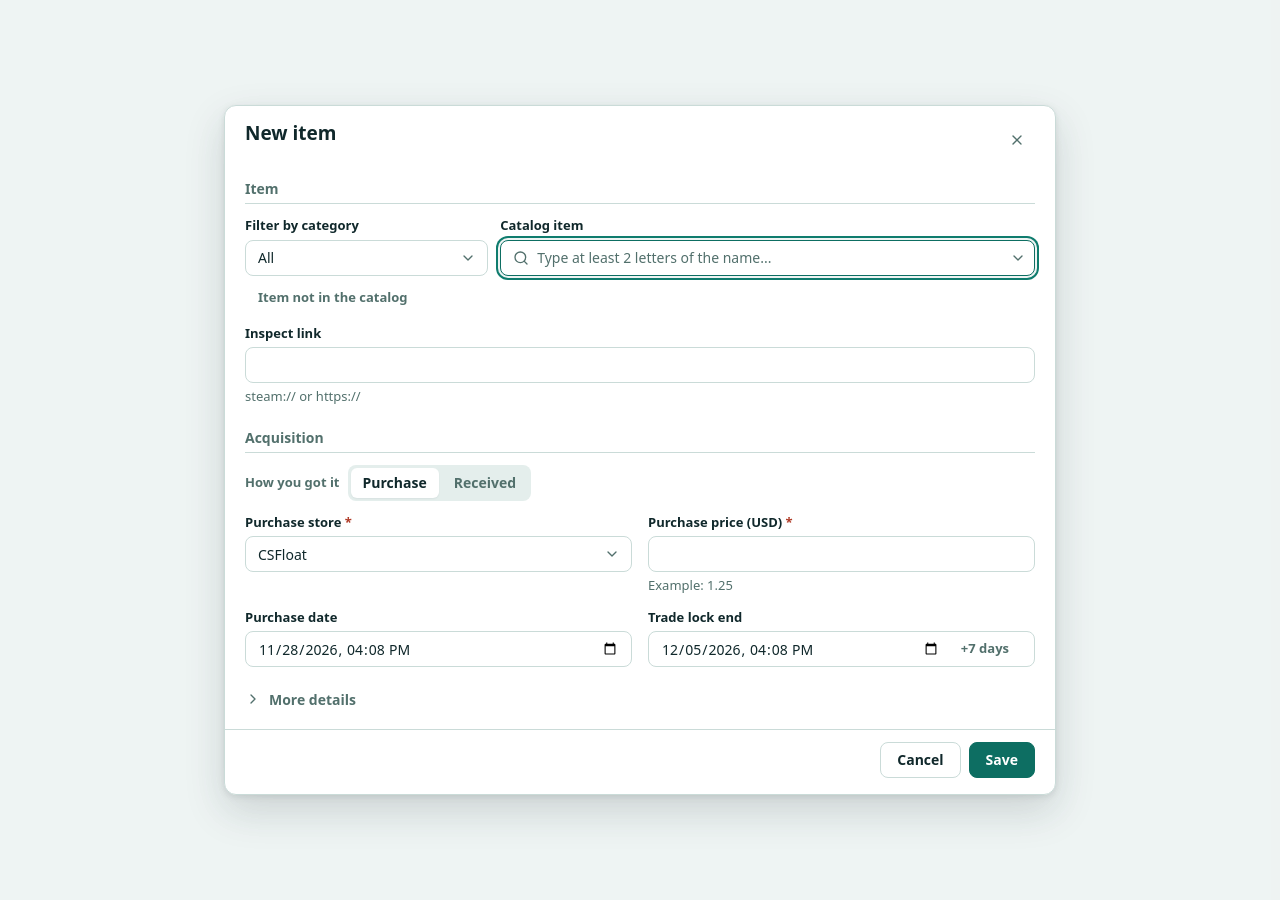
Compra e Ganhei › Compra mostra preço e datas de compra; Ganhei esconde preço e cotação e troca o rótulo da data
Select "Steam" in the dropdown labelled "Purchase store *" at {"x": 438, "y": 554}, box [245,536,632,572]
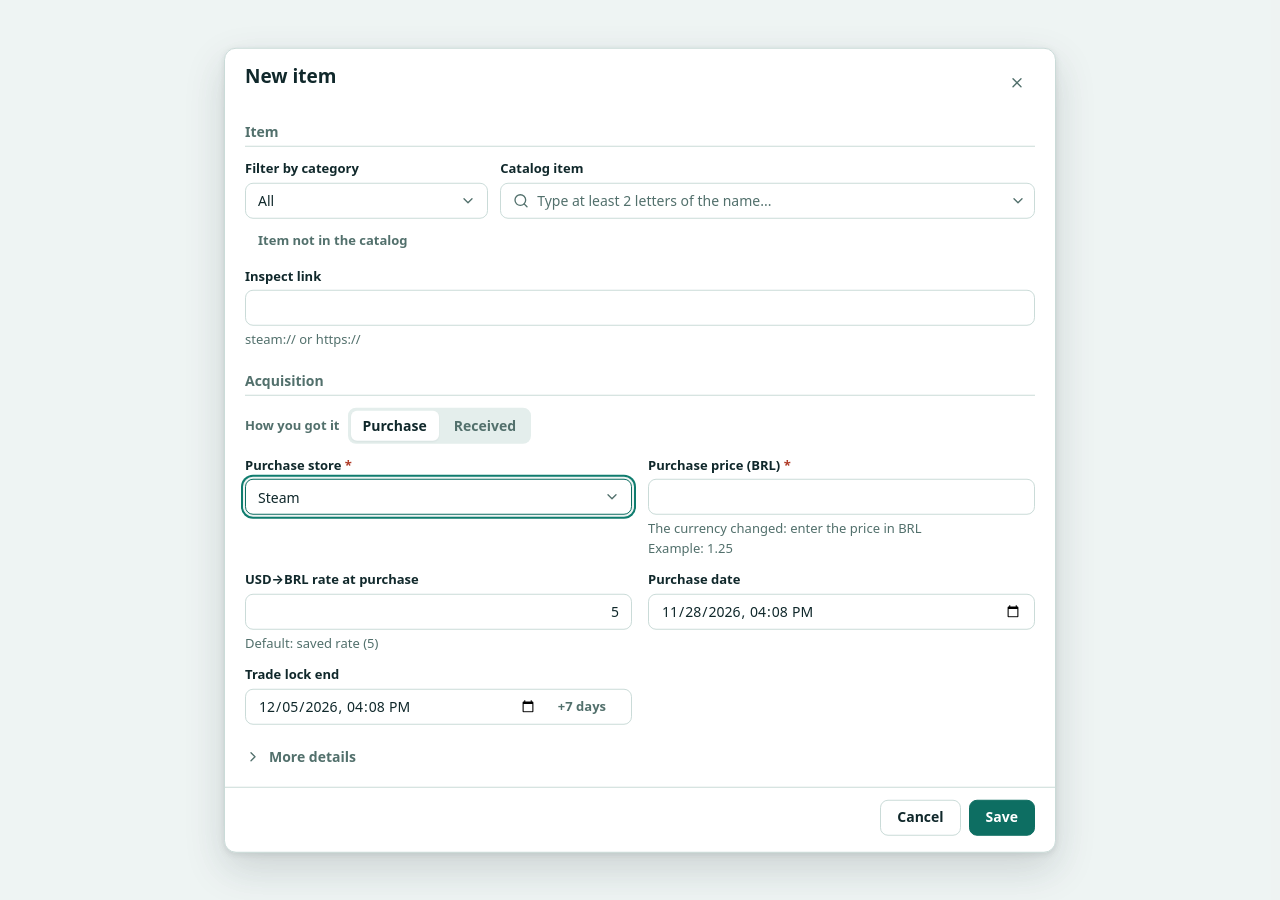
Expected: the field labelled "Purchase price (BRL) *" is shown, [661,480,1022,514]
Expected: the field labelled "USD→BRL rate at purchase" is shown, [258,594,619,628]
Click the radio button labelled "Received" at {"x": 485, "y": 425}, box [442,410,528,440]
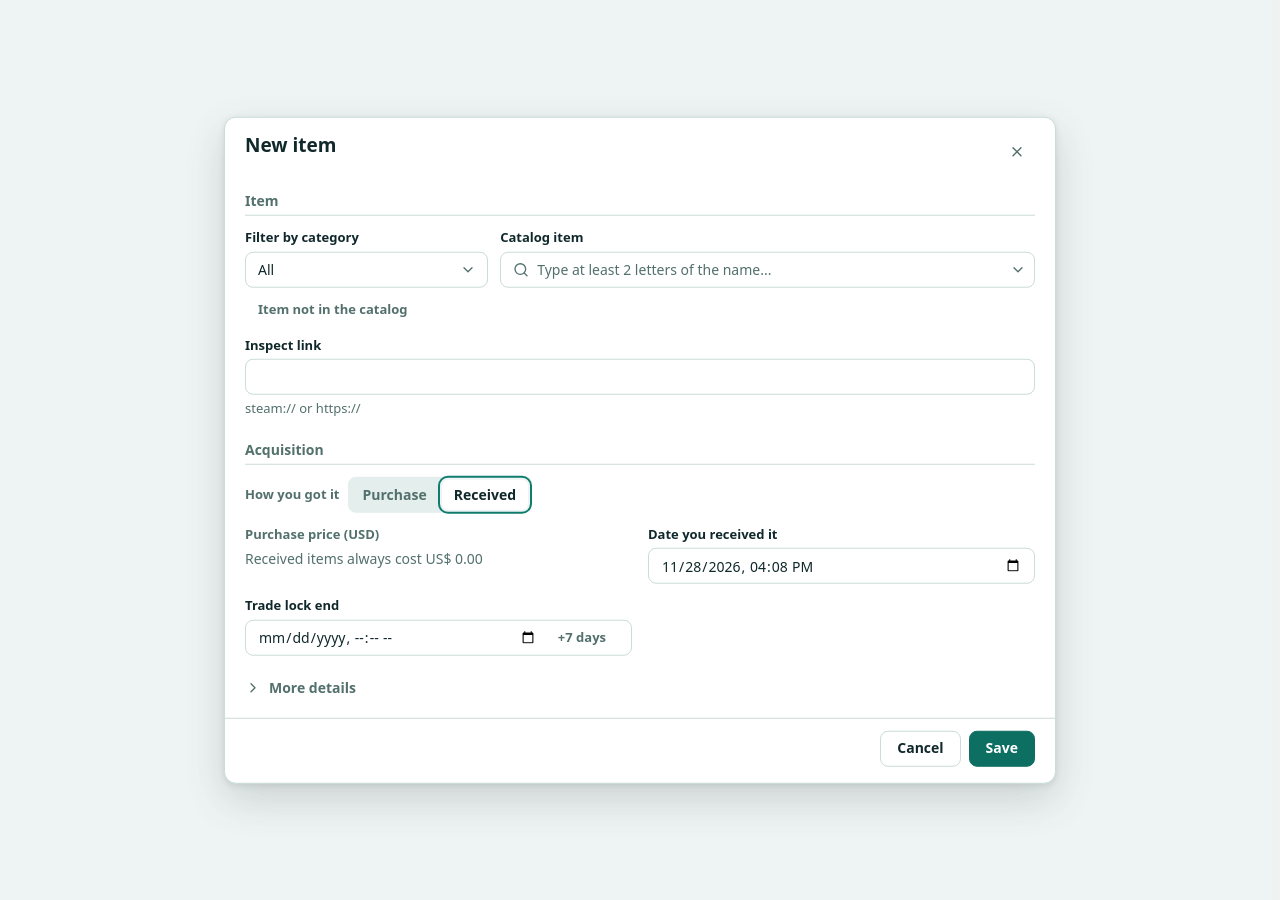
Expected: the label labelled "USD→BRL rate" is gone
Expected: the label labelled "Purchase date" is gone
Expected: the text "Received items always cost US$ 0.00" is shown, [245,549,483,568]
Click the button "More details" at {"x": 300, "y": 687}, box [245,675,356,699]
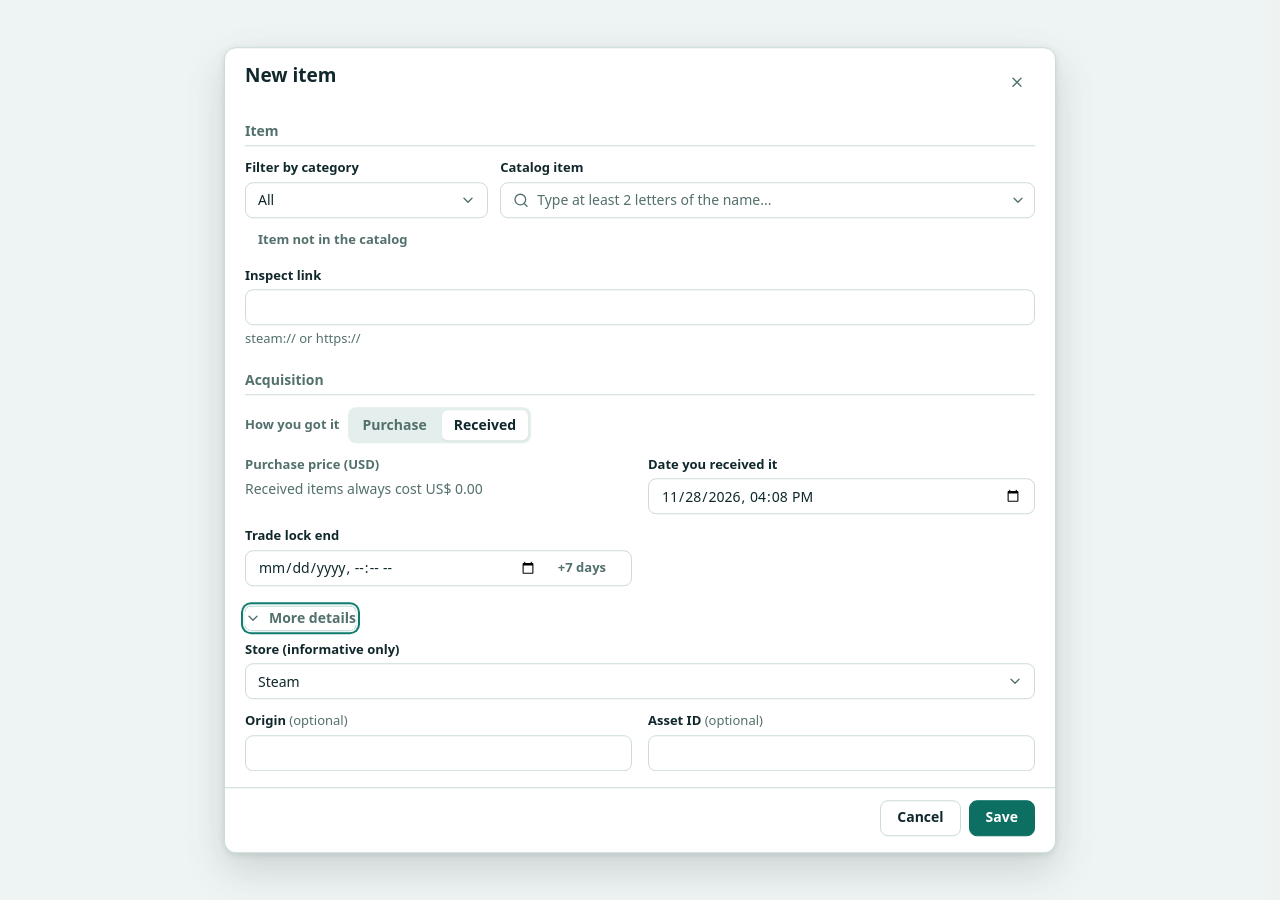
Expected: the dropdown labelled "Store (informative only)" is shown, [245,663,1035,699]
